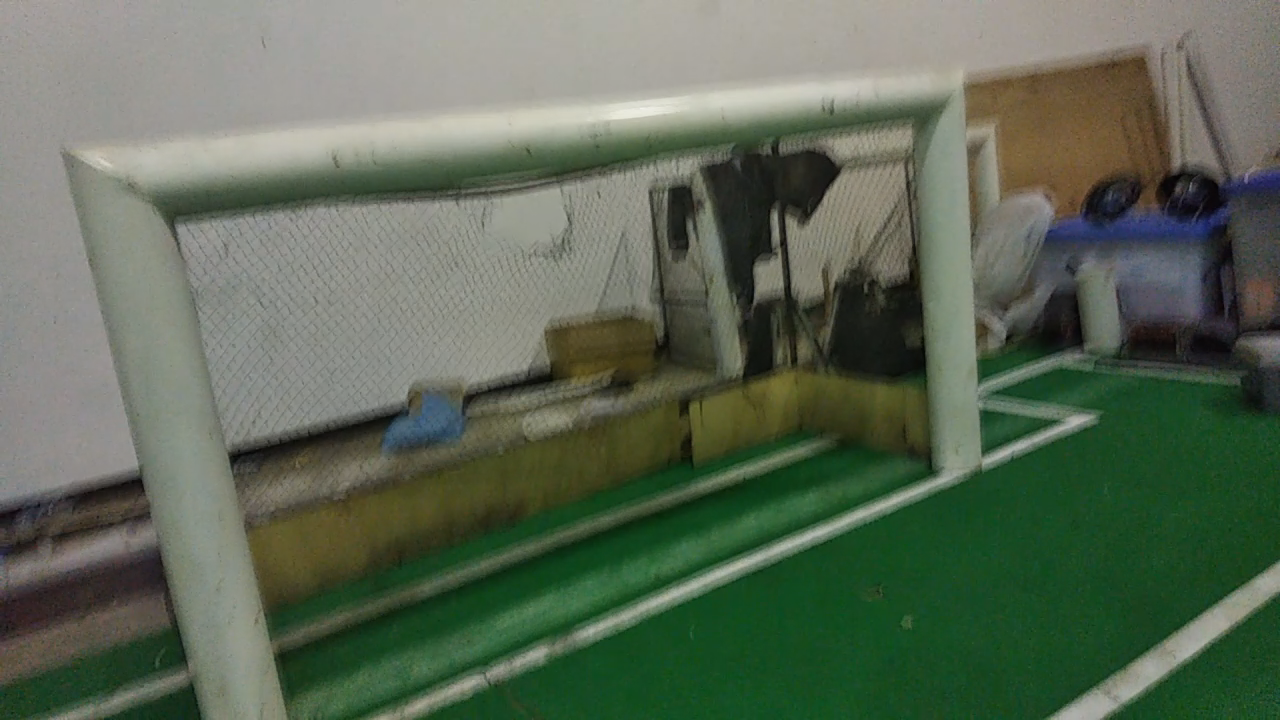gawang: (41, 42, 990, 719)
